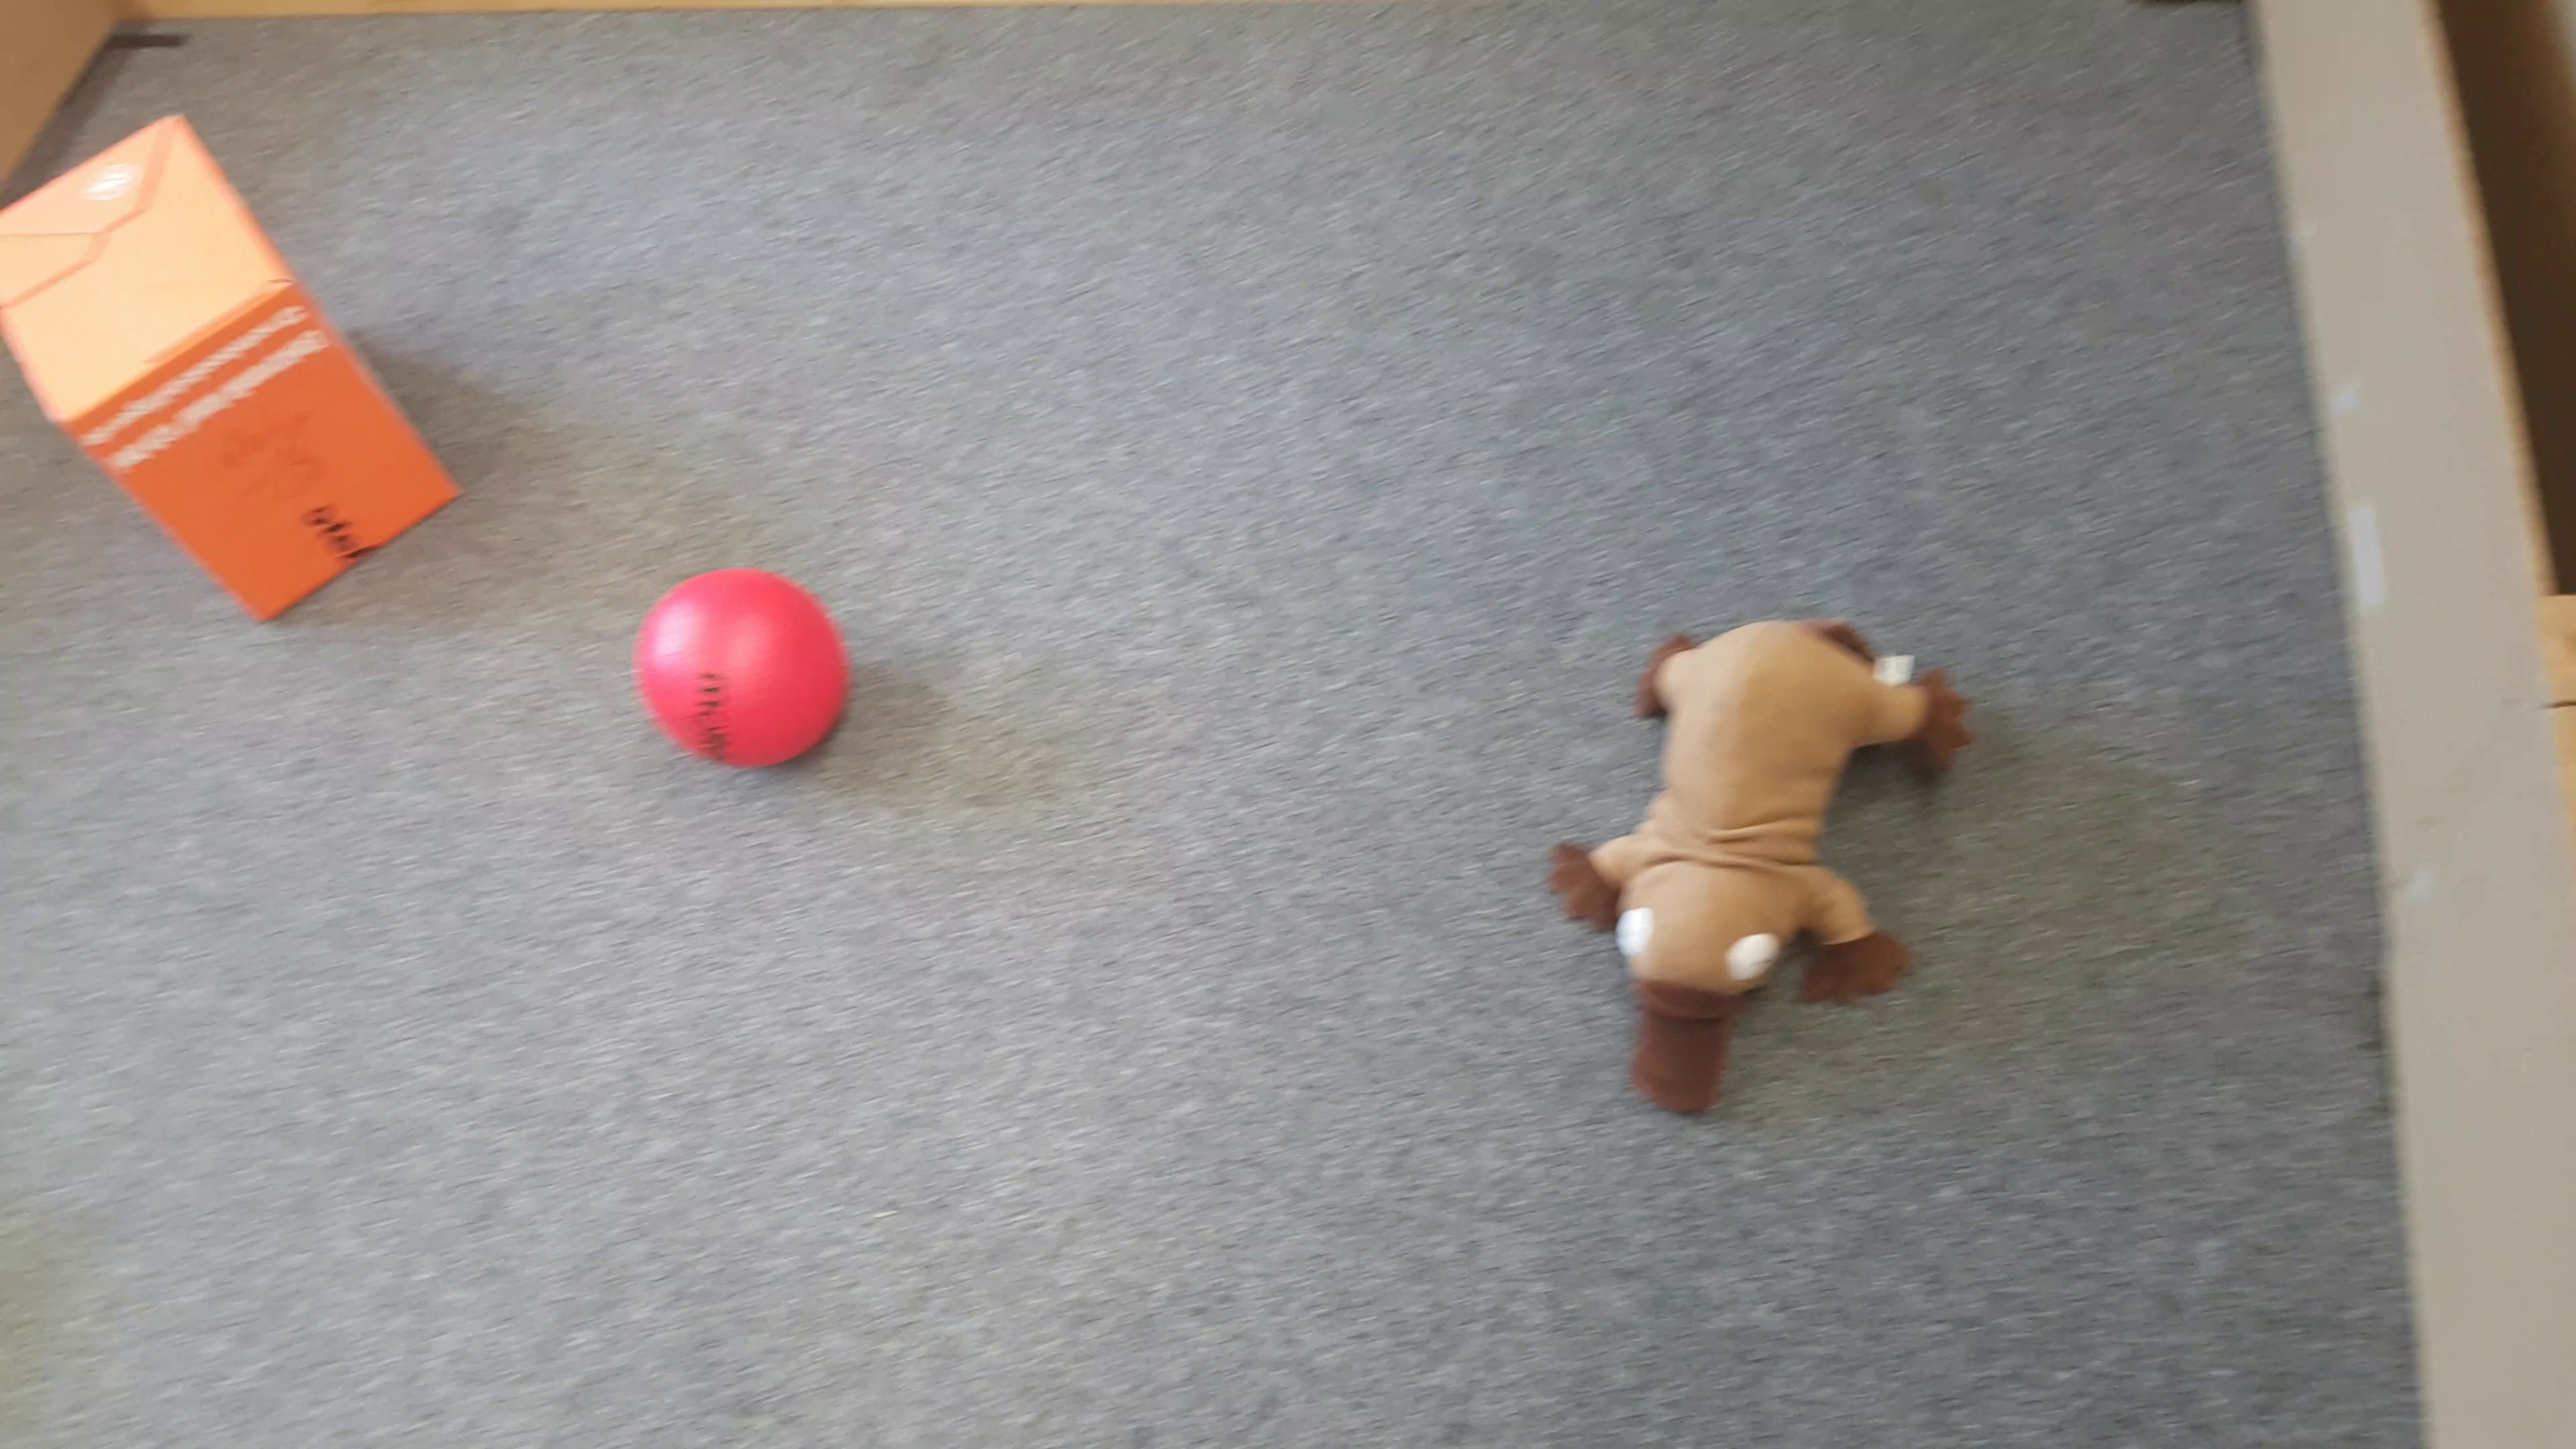grasp: (1550, 614, 1973, 1116)
kick: (628, 564, 853, 771)
push: (4, 111, 464, 617)
